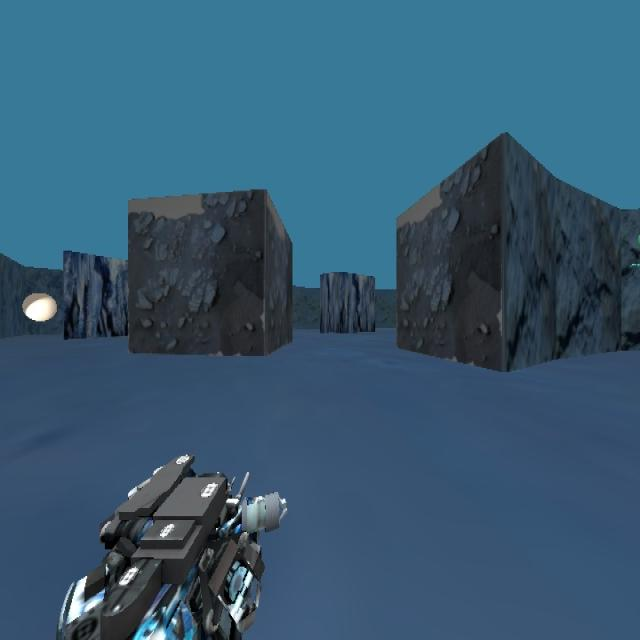Circle: (21, 290, 57, 322)
